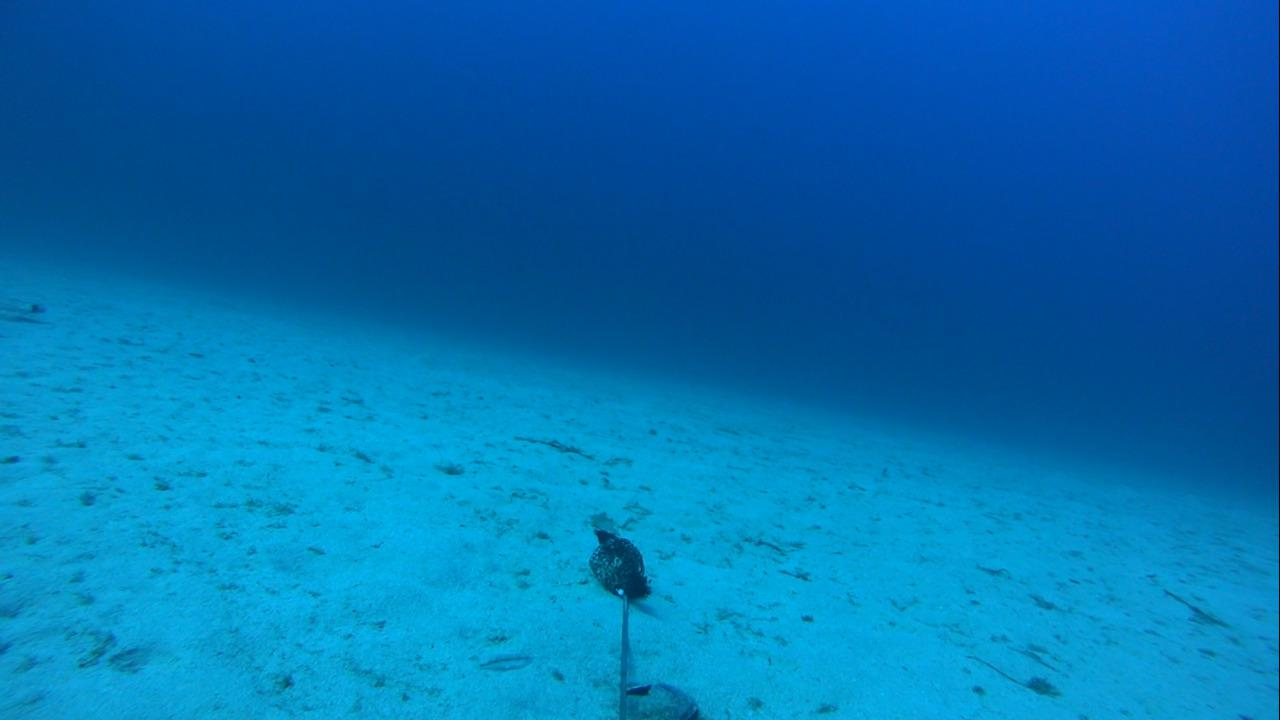dactylopterus: (3, 285, 50, 329)
